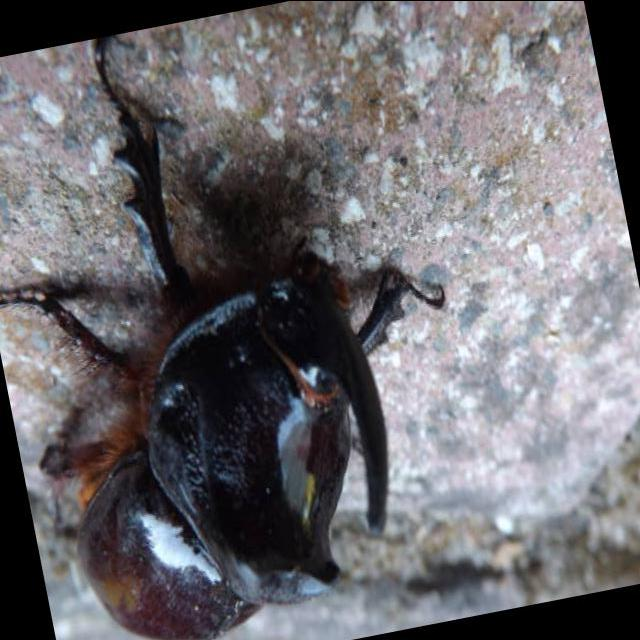Rhino-beetle: (85, 35, 410, 635)
